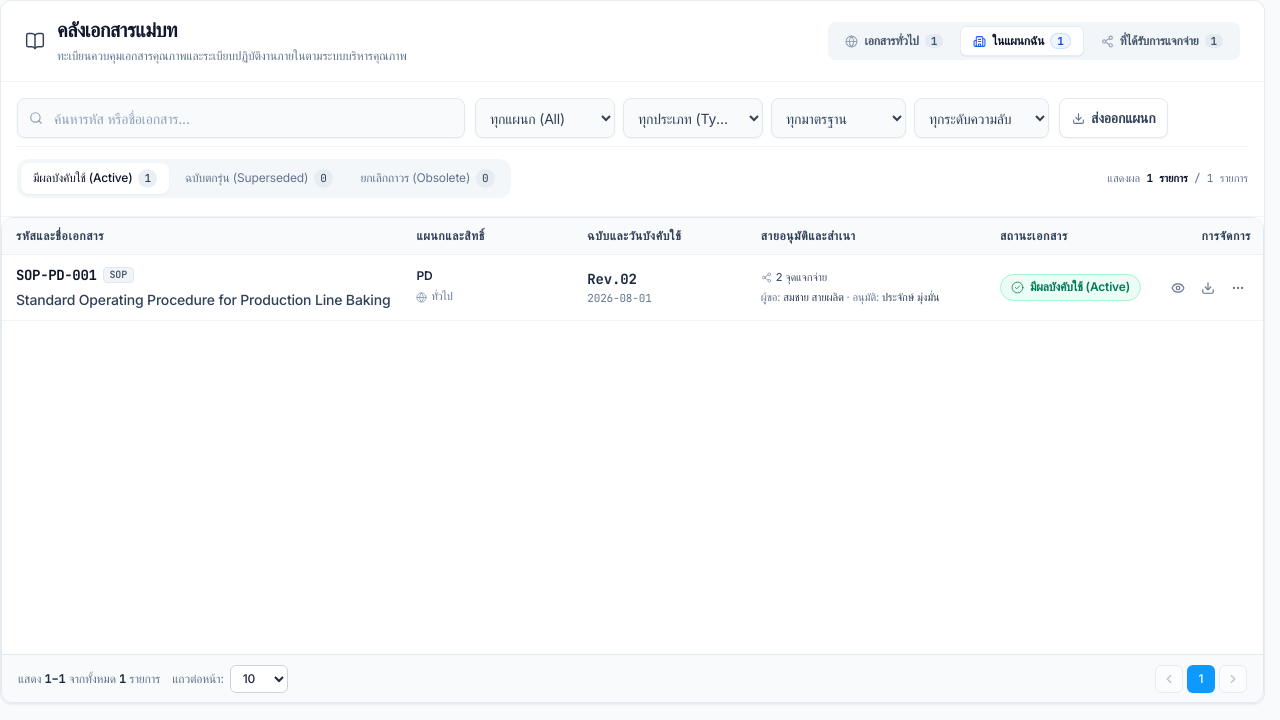
UI Guardrails, Library Segmentation & DAR Audit History Tests › 3. Library Dual-Tab Segmentation & Permissions › Tab "เอกสารที่ได้รับการแจกจ่าย" displays ONLY distributed documents excluding own department
This screenshot has width=1280, height=720.
Switch to distributed tab
What coordinates should you click on to do the following:
click the button with aria-label "เอกสารที่ได้รับการแจกจ่าย"
I would click on:
 (1162, 41)
Its box is x1=1088 y1=26 x2=1236 y2=56.
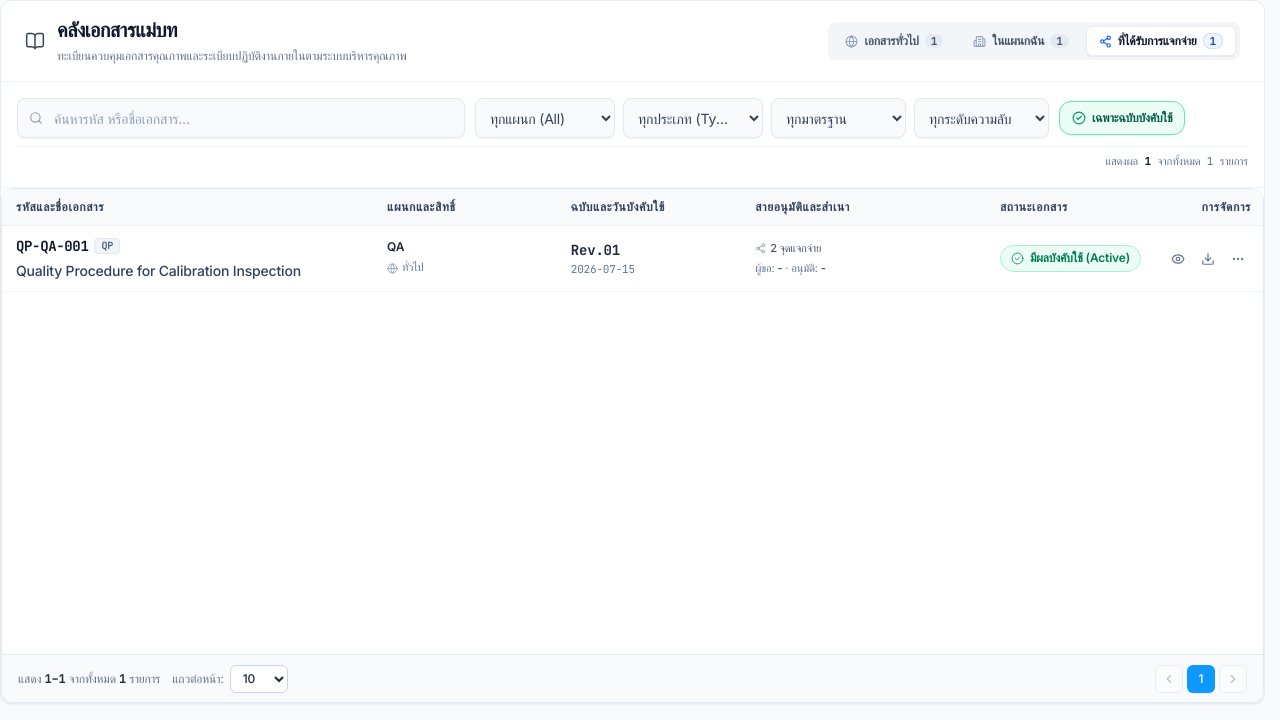
Expected: the text "QP-QA-001" is shown, x1=16 y1=236 x2=88 y2=256
Expected: the text "SOP-PD-001" is gone
